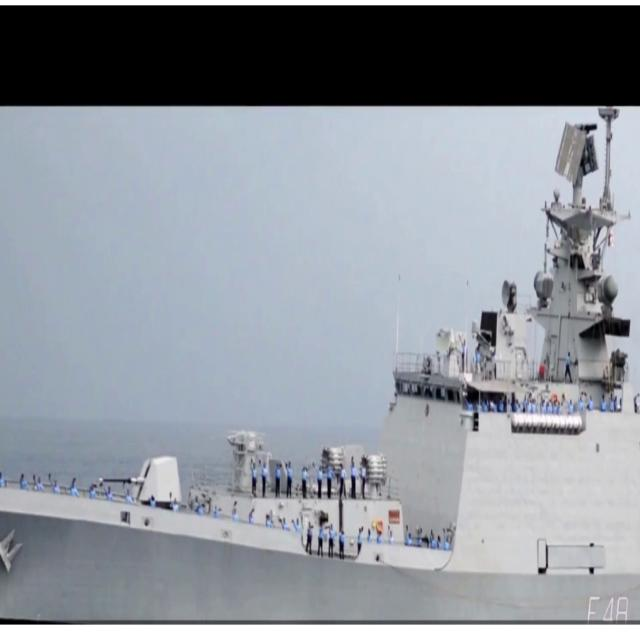OCR: (580, 588, 624, 625)
